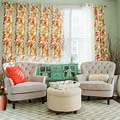copymove: (12, 2, 62, 61)
removal: (61, 46, 97, 63)
spliced: (1, 87, 7, 111)
